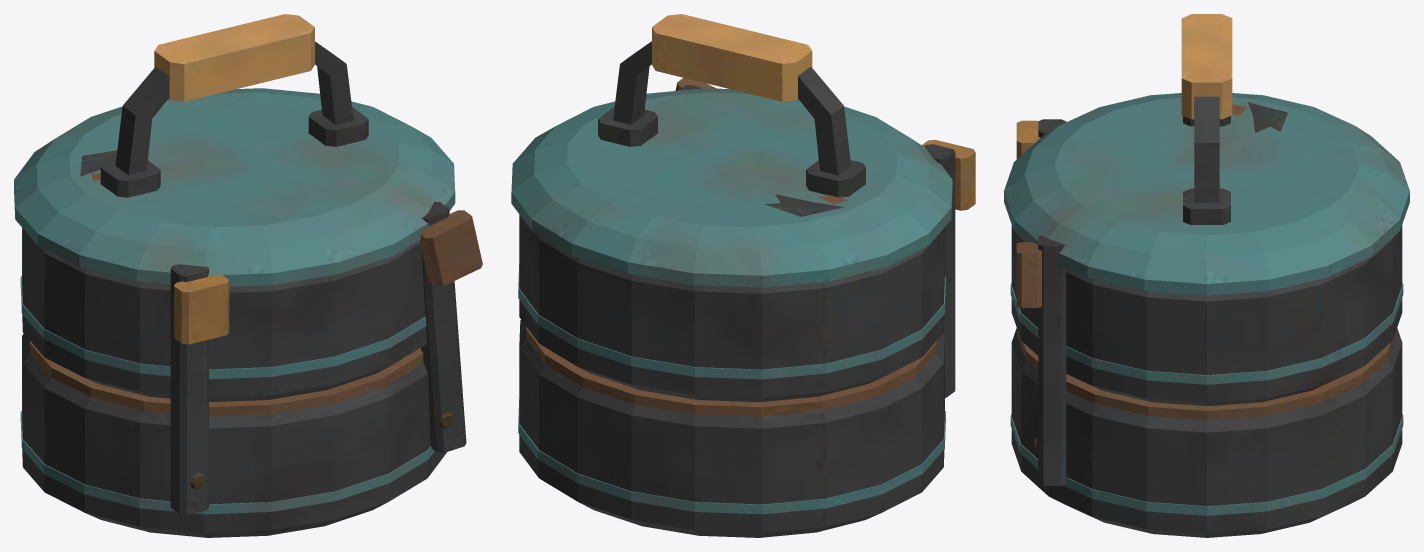
The model's file is SE10_kids_lunch_boxes_v3.glb.
3 renders of one model, left to right at view 1: azimuth 30°, elevation 25°; view 2: azimuth 150°, elevation 25°; view 3: azimuth 270°, elevation 25°, orthographic. The views are drawn at different scales.
Visible parts, largest first — view 1: Two tier school tiffin; view 2: Two tier school tiffin; view 3: Two tier school tiffin.
Boxes of the visible parts, <box> form: Two tier school tiffin: <box>14,14,482,537</box>; Two tier school tiffin: <box>511,14,975,537</box>; Two tier school tiffin: <box>1004,14,1409,537</box>.
Size of the model in its own units: 0.1955 by 0.2 by 0.1798.
6 materials, 6 textured.
